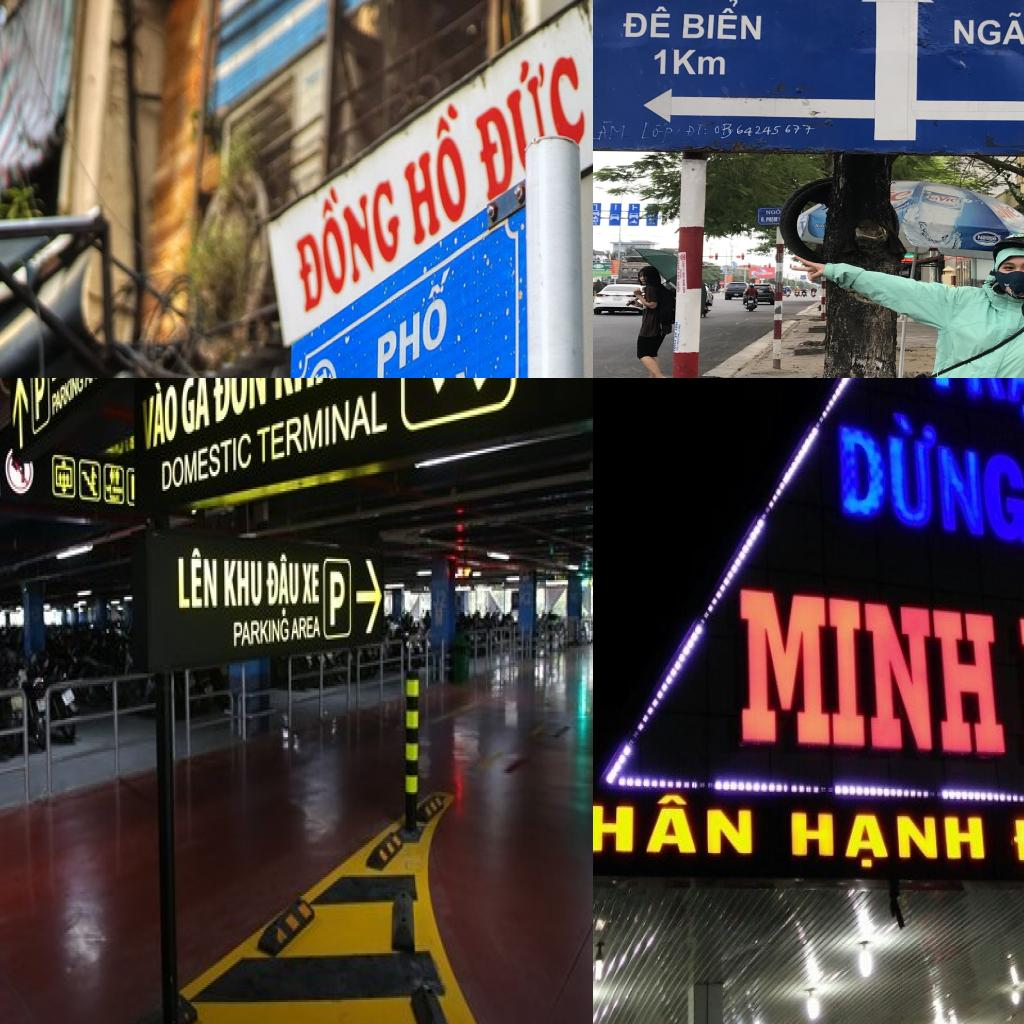text: (729, 560, 1012, 763), (832, 400, 1024, 557), (467, 23, 593, 204), (290, 149, 407, 316), (780, 790, 994, 873), (593, 782, 763, 866), (255, 383, 391, 470), (397, 96, 470, 250), (377, 264, 452, 378), (158, 428, 254, 498), (679, 0, 764, 45), (174, 546, 221, 614), (208, 378, 268, 429), (139, 378, 179, 452), (951, 7, 1024, 47), (711, 118, 816, 142), (265, 552, 302, 620), (221, 557, 265, 608), (621, 4, 676, 44), (180, 378, 213, 438), (232, 616, 290, 650), (670, 47, 729, 78), (49, 378, 84, 421), (634, 116, 684, 146), (327, 570, 347, 631), (593, 116, 631, 146), (289, 614, 323, 646), (301, 561, 321, 608), (682, 118, 718, 142), (31, 378, 46, 425), (887, 186, 918, 206), (649, 48, 671, 76), (84, 378, 112, 389), (608, 261, 622, 281), (750, 270, 777, 280), (976, 234, 1000, 242)
